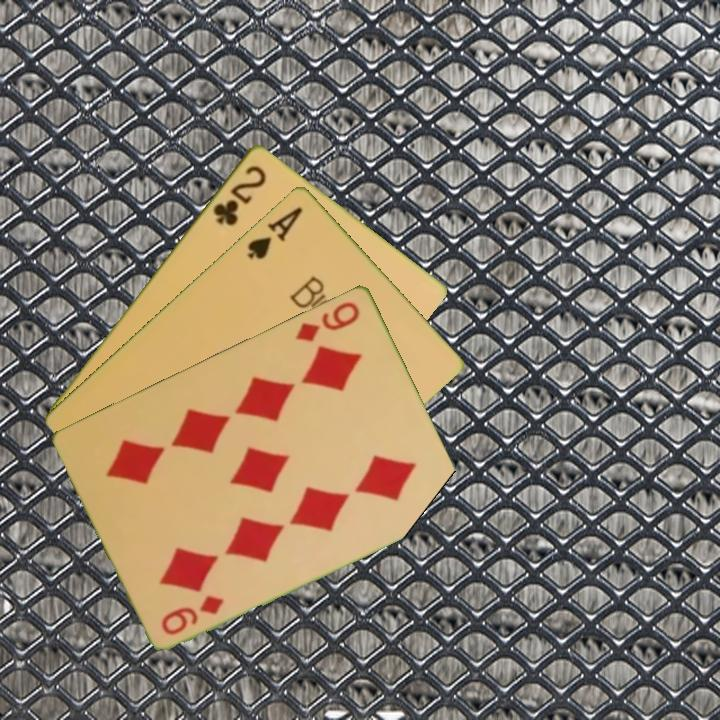2c: (209, 161, 269, 228)
9d: (291, 297, 363, 345), (157, 591, 228, 638)
As: (243, 202, 306, 262)
